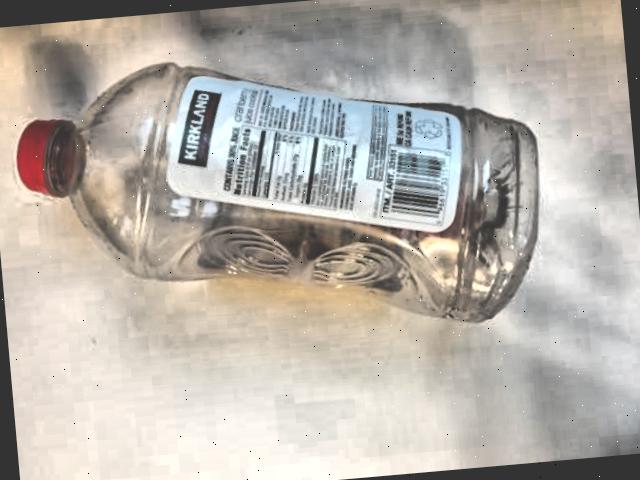Bottles: (0, 22, 572, 382)
